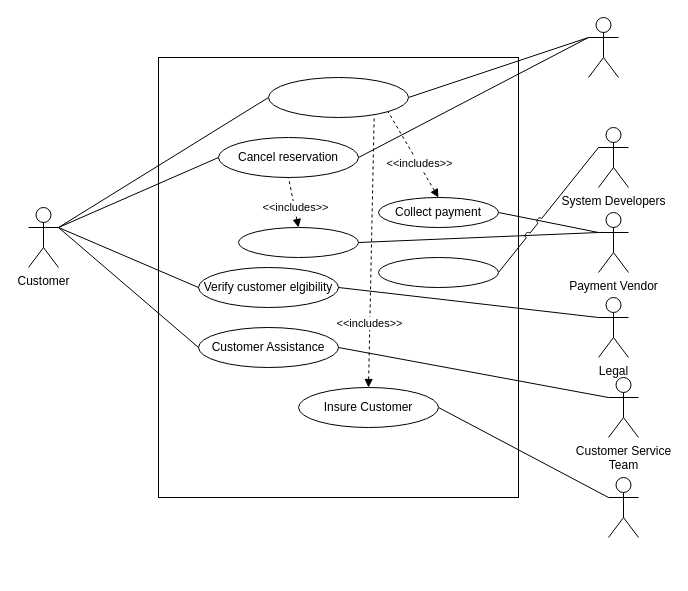
Some shapes in this 688 by 591 pixel diagram are drawn without their labels. Each missing label, with the centre of its shape:
"Car Rental Service Representative" goes at point 603,47.
"Create reservation" goes at point 338,97.
"Insurance Representative" goes at point 623,507.
"Issue Refund" goes at point 298,242.
"Modify data" goes at point 438,272.
